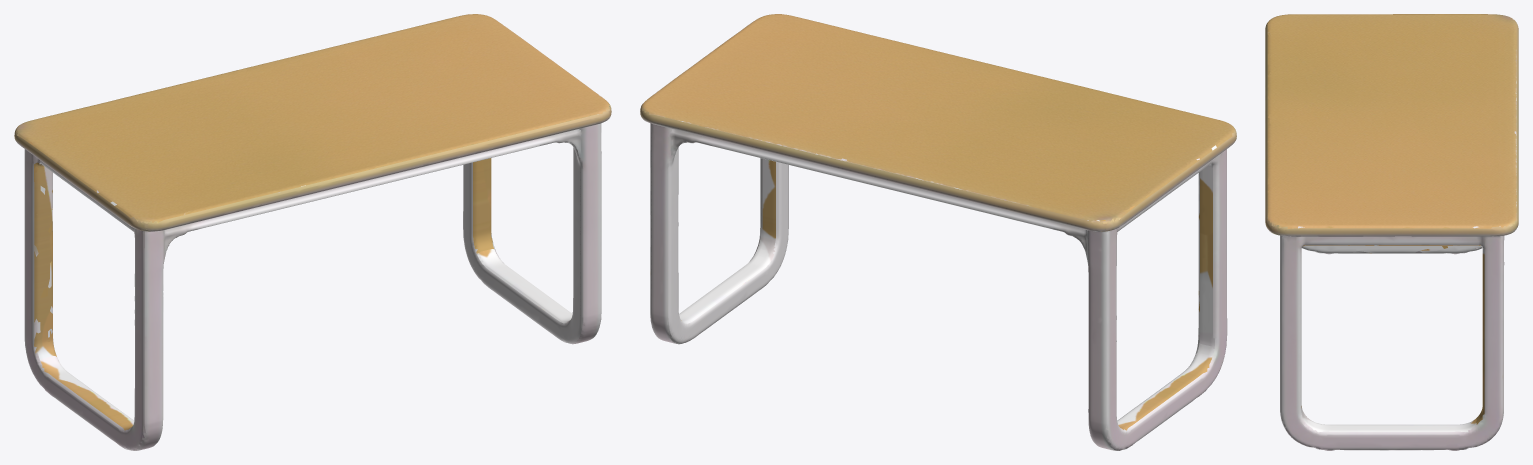
Rendered from table__table#3.glb.
3 renders of one model, left to right at view 1: azimuth 30°, elevation 25°; view 2: azimuth 150°, elevation 25°; view 3: azimuth 270°, elevation 25°, orthographic. The views are drawn at different scales.
Parts seen in each view (by area): view 1: tmpw8uv0ike.ply; view 2: tmpw8uv0ike.ply; view 3: tmpw8uv0ike.ply.
Part boxes in pixels (bbox=[...]): tmpw8uv0ike.ply: bbox=[14, 14, 611, 450]; tmpw8uv0ike.ply: bbox=[640, 14, 1236, 450]; tmpw8uv0ike.ply: bbox=[1265, 14, 1518, 450].
Bounding box in the file's own units: 1.99 × 0.9966 × 0.9925.
Materials: 1 (1 with a texture image).
